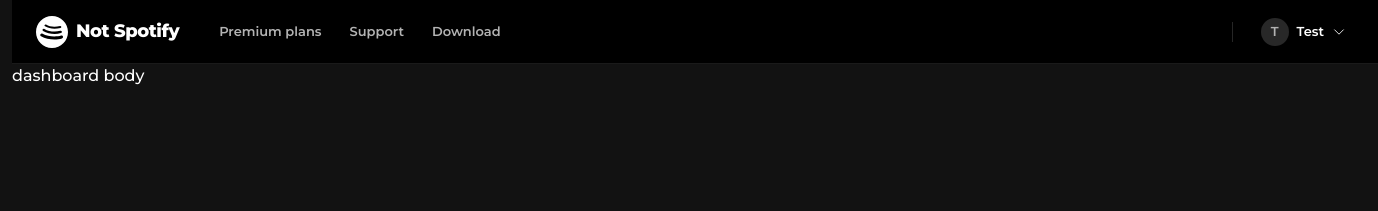
Test case: SettingsShell context-aware account menu (bug 14) › hides "Artist Dashboard" and shows "Account" on the Artist Dashboard
Click the button at [1303, 32], box [1253, 12, 1354, 52]
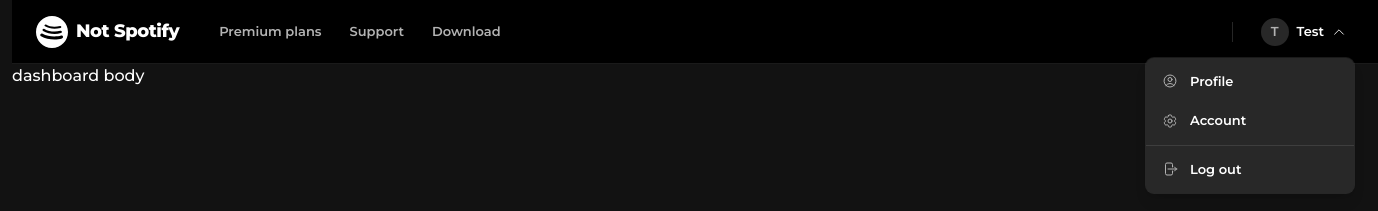
Now the link "Profile" is shown, box [1162, 72, 1233, 89]
